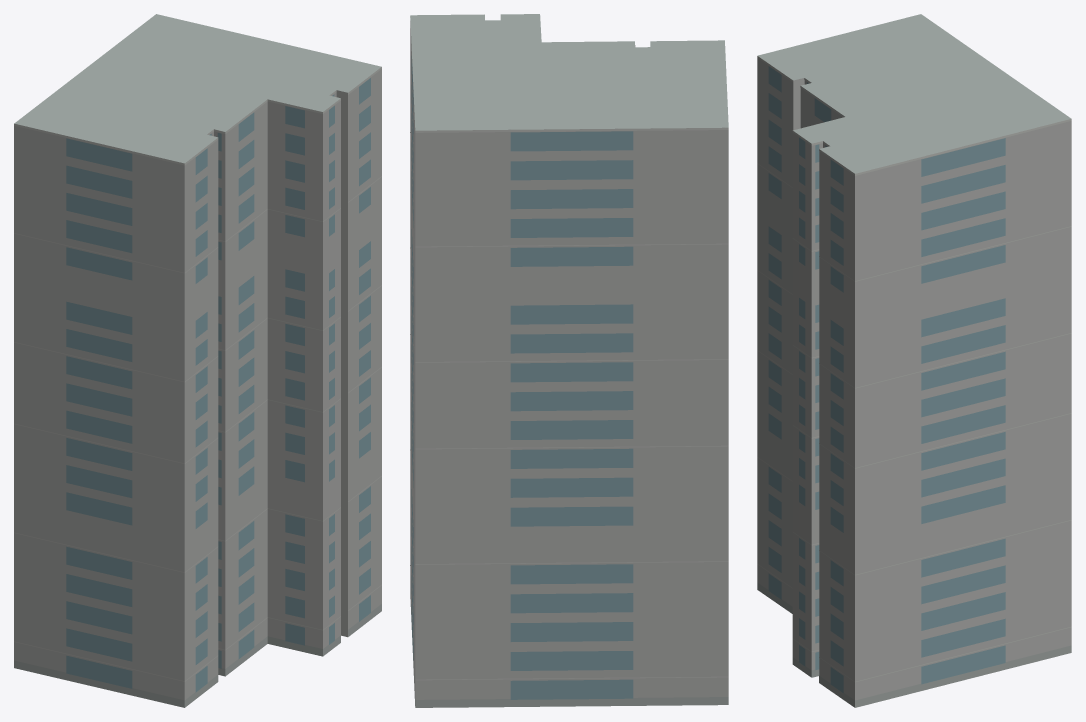
File: survey-upis-32832102.glb
The picture shows the model from 3 angles, left to right: view 1: azimuth 30°, elevation 25°; view 2: azimuth 150°, elevation 25°; view 3: azimuth 270°, elevation 25°; orthographic projection. The views are drawn at different scales.
Visible parts, largest first — view 1: survey-upis-32832102.tmp; view 2: survey-upis-32832102.tmp; view 3: survey-upis-32832102.tmp.
Part boxes in pixels (x1,y1,x2,y2): survey-upis-32832102.tmp: (14, 14, 381, 707); survey-upis-32832102.tmp: (410, 14, 728, 707); survey-upis-32832102.tmp: (757, 14, 1071, 707).
Size of the model in its own units: 40.79 by 63.5 by 33.9.
